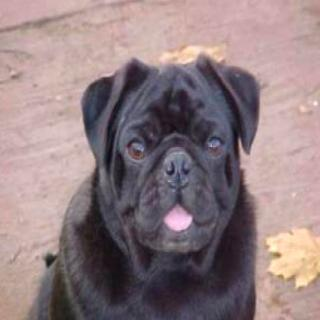dog: (70, 48, 260, 271)
nose: (157, 146, 198, 190)
